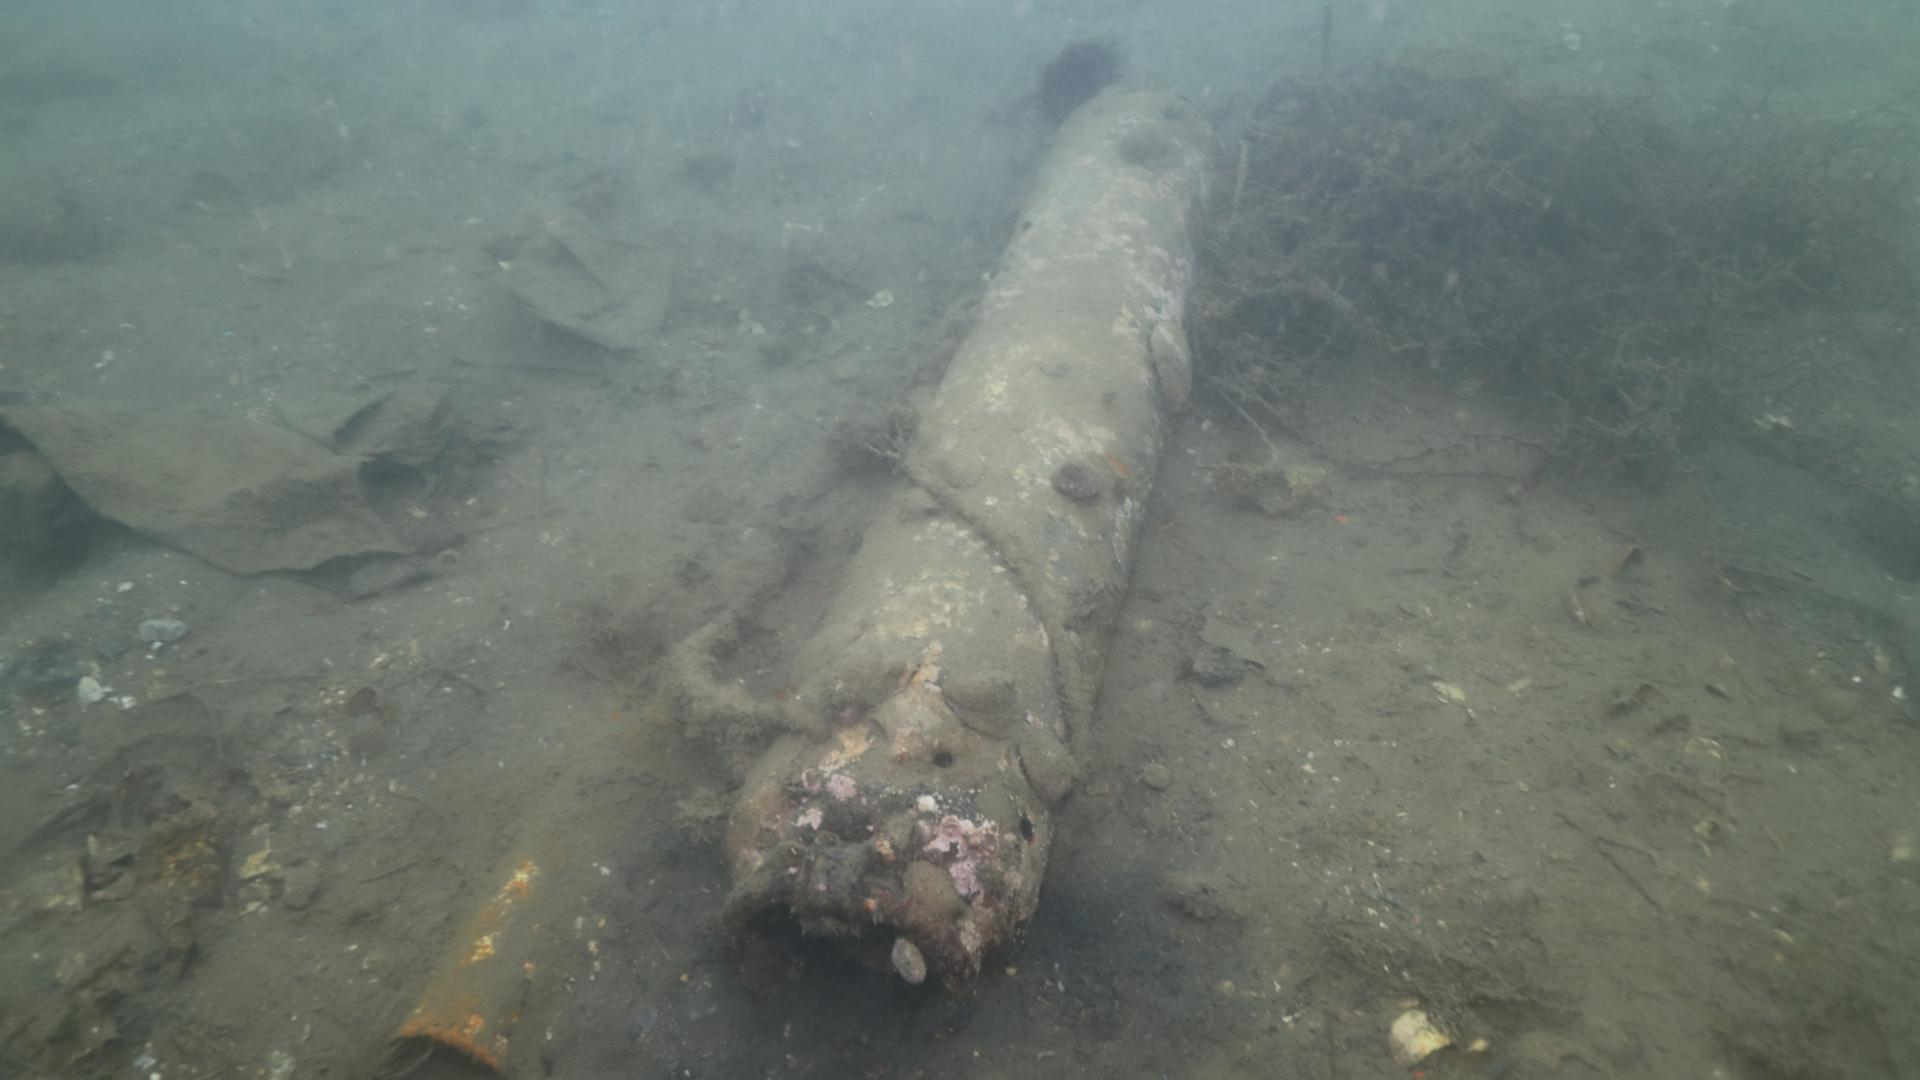eel fish trap: (705, 75, 1236, 1010)
rope: (874, 442, 1096, 767)
